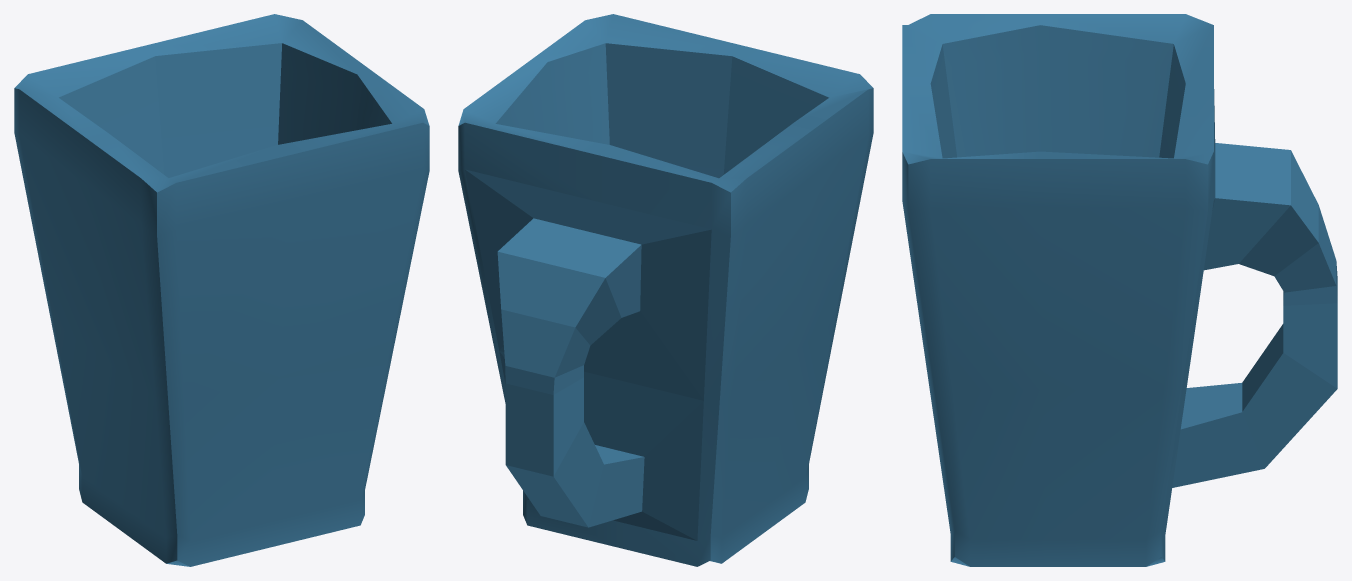
File: Cup.fbx
3 views of the same model, side by side, from view 1: azimuth 30°, elevation 25°; view 2: azimuth 150°, elevation 25°; view 3: azimuth 270°, elevation 25° (orthographic). The views are drawn at different scales.
Parts seen in each view (by area): view 1: Cup; view 2: Cup; view 3: Cup.
Part boxes in pixels (bbox=[...]): Cup: bbox=[14, 14, 429, 566]; Cup: bbox=[458, 14, 873, 566]; Cup: bbox=[902, 14, 1337, 566].
Bounding box in the file's own units: 7.16 × 9.9 × 9.08.
